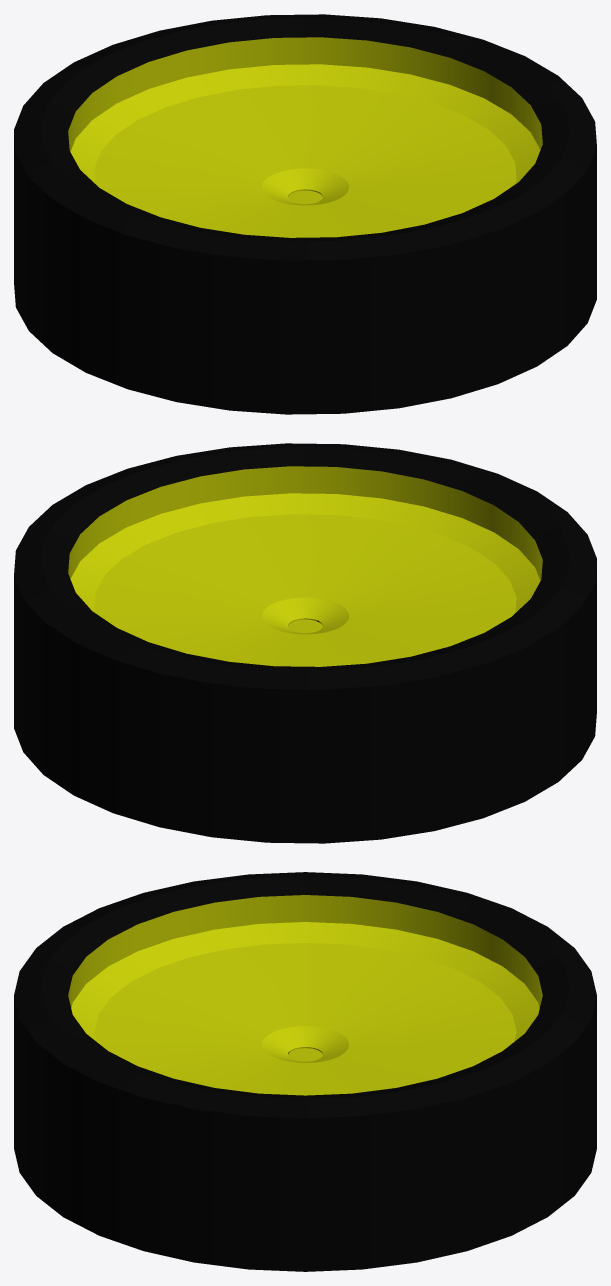
3 renders of one model, top to bottom at view 1: azimuth 30°, elevation 25°; view 2: azimuth 150°, elevation 25°; view 3: azimuth 270°, elevation 25°, orthographic.
Visible parts, largest first — view 1: Tyre; view 2: Tyre; view 3: Tyre.
Boxes of the visible parts, x1=… form: Tyre: x1=14, y1=14, x2=596, y2=414; Tyre: x1=14, y1=443, x2=596, y2=843; Tyre: x1=14, y1=872, x2=596, y2=1271.
Size of the model in its own units: 0.1 by 0.032 by 0.1.
